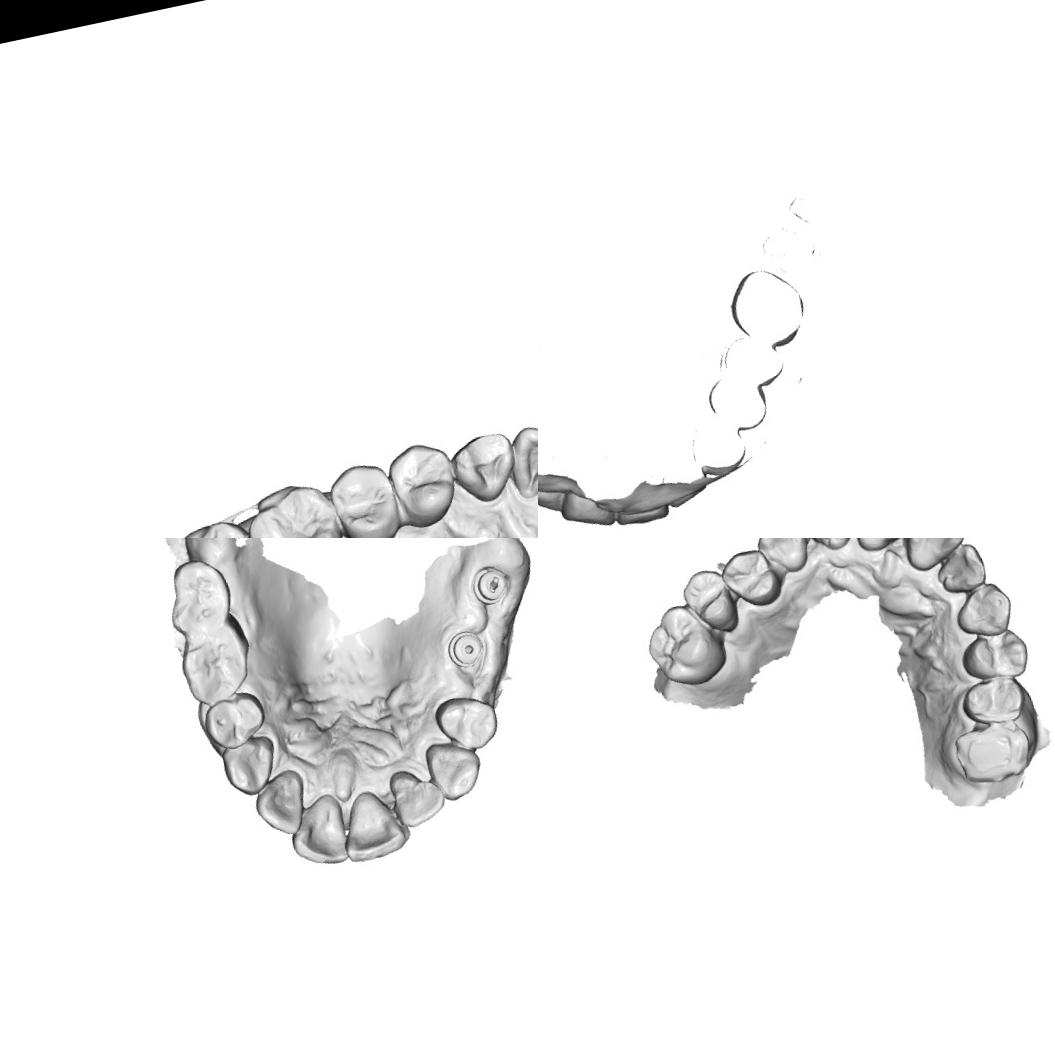canine: (446, 428, 523, 509), (422, 734, 488, 805), (218, 733, 284, 801), (949, 580, 1017, 644), (752, 538, 812, 577)
implant: (443, 626, 488, 672)
implant_minus: (467, 561, 516, 609)
incisor: (334, 786, 408, 866), (283, 791, 354, 873), (247, 766, 314, 842), (384, 763, 450, 832), (930, 540, 991, 598), (501, 416, 538, 501), (895, 538, 972, 574), (795, 538, 860, 556)
molar: (638, 596, 732, 696), (173, 622, 261, 710), (237, 475, 355, 538), (157, 551, 239, 640), (948, 715, 1038, 791), (160, 513, 268, 538)
premolar: (383, 436, 460, 536), (322, 454, 408, 538), (714, 543, 786, 615), (677, 563, 743, 641), (430, 688, 504, 757), (955, 623, 1033, 688), (199, 687, 271, 754), (957, 670, 1030, 731)
